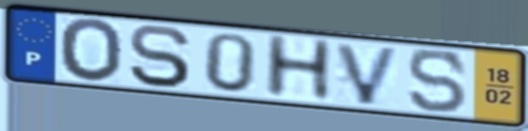0: (201, 32, 259, 94)
H: (261, 32, 336, 101)
O: (57, 16, 126, 85)
S: (126, 23, 194, 90), (405, 47, 470, 115)
V: (332, 40, 404, 107)
